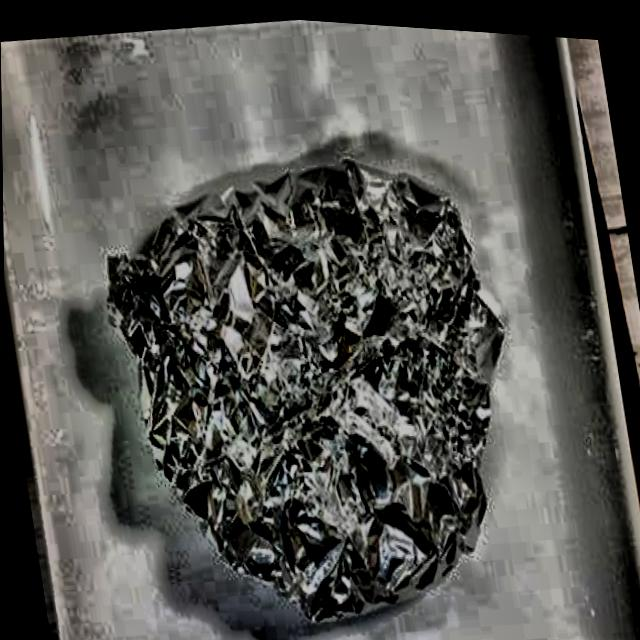Foil: (74, 109, 555, 640)
